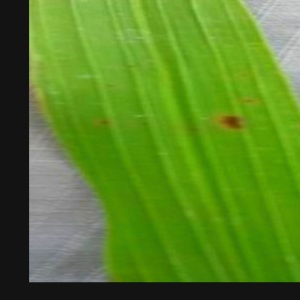Bacterial_Leaf_Blight: (215, 111, 247, 133), (96, 116, 114, 127), (122, 60, 140, 71), (236, 68, 250, 81), (241, 96, 258, 106), (184, 124, 199, 134), (102, 80, 115, 90)
